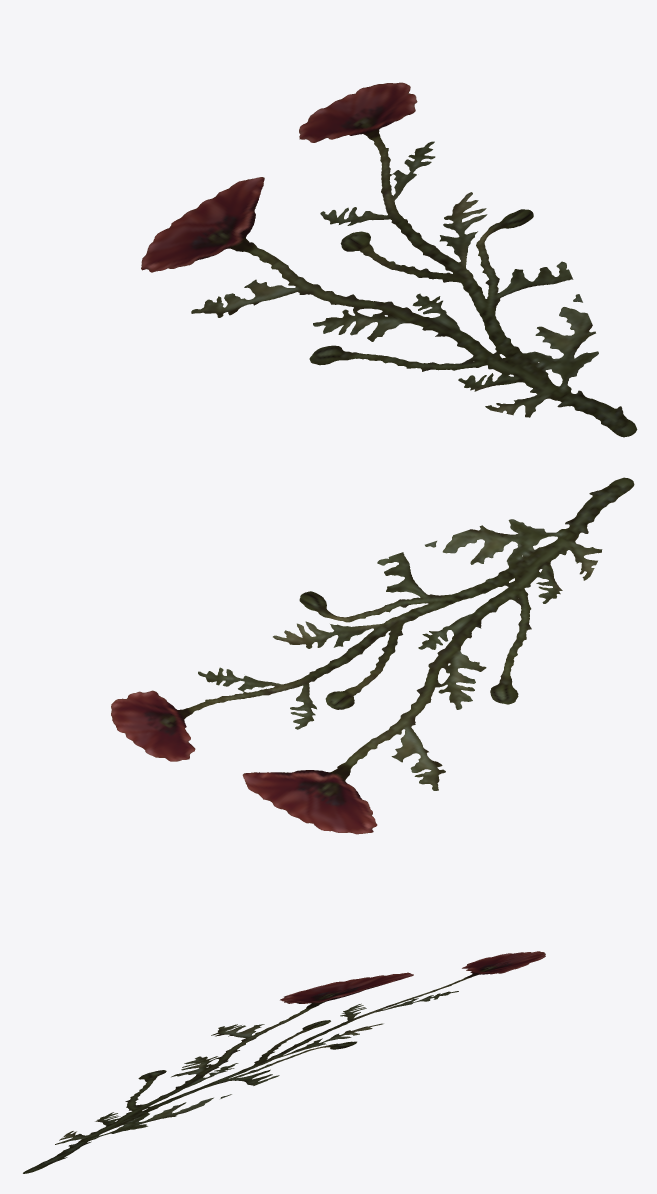
File: MEP_RedFlower_02_LOD_01.fbx
The picture shows the model from 3 angles, top to bottom: view 1: azimuth 30°, elevation 25°; view 2: azimuth 150°, elevation 25°; view 3: azimuth 330°, elevation 25°; orthographic projection. The views are drawn at different scales.
Parts seen in each view (by area): view 1: MEP_RedFlower_02_LOD_01; view 2: MEP_RedFlower_02_LOD_01; view 3: MEP_RedFlower_02_LOD_01.
Part boxes in pixels (<box>): MEP_RedFlower_02_LOD_01: <box>141,82,637,437</box>; MEP_RedFlower_02_LOD_01: <box>111,477,634,834</box>; MEP_RedFlower_02_LOD_01: <box>23,951,545,1173</box>.
Size of the model in its own units: 0.5091 by 0.1723 by 0.8765.
